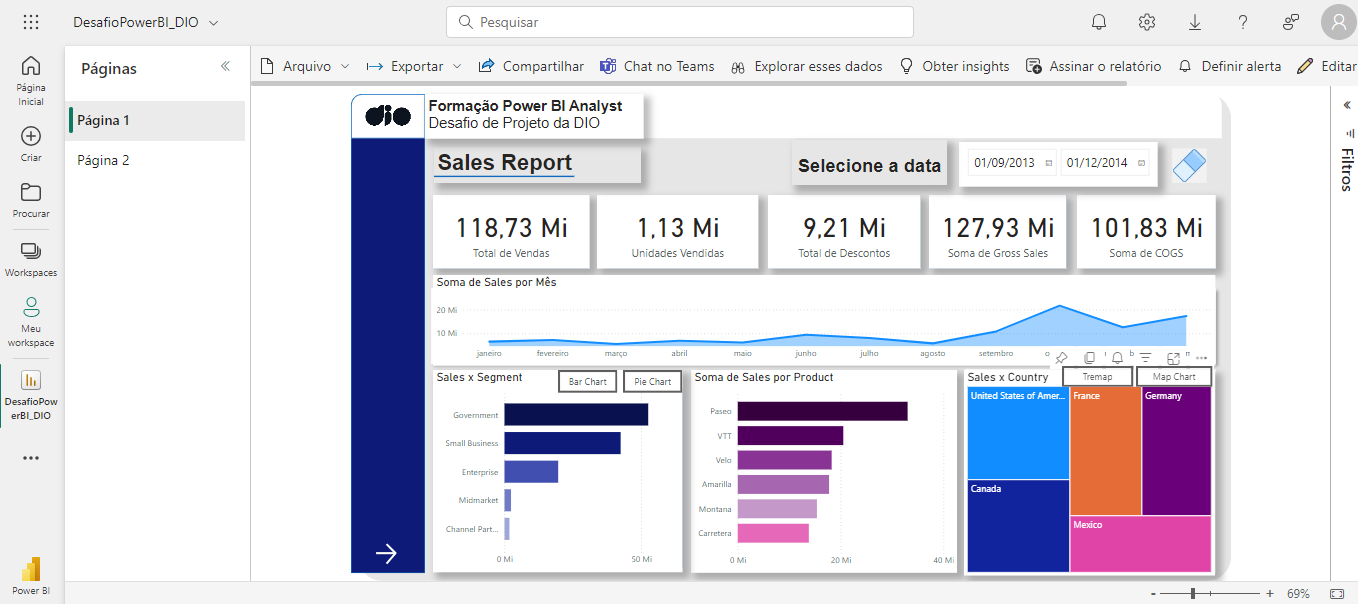

The page's visual inventory and layout, read from the dashboard file:
{"tool":"powerbi","page":{"name":"Página 1","canvas":[1280,720],"ordinal":0},"visuals":[{"type":"shape","box":[10.1,11.5,1270.1,708.5],"z":0},{"type":"slicer","fields":{"Values":["financials.Date"]},"box":[885.3,82,289.4,64.8],"z":0,"group":"g2"},{"type":"shape","box":[120.4,115.8,204.5,30.2],"z":0,"group":"g5"},{"type":"shape","box":[119.5,158.4,227.5,106.6],"z":0,"group":"g1"},{"type":"map","title":"Sales x Country","fields":{"Category":["financials.Country"],"Size":["Sum(financials. Sales)"]},"box":[892.7,411.8,365,298.4],"z":0,"group":"g3"},{"type":"donutChart","title":"Sales x Segmento - pie","fields":{"Y":["Sum(financials. Sales)"],"Category":["financials.Segment"]},"box":[119.6,413.6,362.3,294.9],"z":0,"group":"g4"},{"type":"shape","box":[0,11.8,107.5,697.1],"z":1000},{"type":"textbox","box":[641.9,79.1,226.1,66.2],"z":1000,"group":"g2"},{"type":"textbox","box":[120.4,88.4,301,53.3],"z":1000,"group":"g5"},{"type":"shape","box":[370.1,158.4,223.2,106.6],"z":1000,"group":"g1"},{"type":"treemap","title":"Sales x Country","fields":{"Group":["financials.Country"],"Values":["Sum(financials. Sales)"]},"box":[892,412.1,364.7,299.4],"z":1000,"group":"g3"},{"type":"clusteredBarChart","title":"Sales  x Segment","fields":{"Y":["Sum(financials. Sales)"],"Category":["financials.Segment"]},"box":[119.5,413.3,362.9,294],"z":1000,"group":"g4"},{"type":"actionButton","title":"Botão - Map","box":[1141.9,406.9,111.2,30.5],"z":1500,"group":"g3"},{"type":"actionButton","title":"Botão - Bar","box":[300.9,413.3,86.4,33.1],"z":1500,"group":"g4"},{"type":"shape","box":[0,11.5,108,64.8],"z":2000},{"type":"actionButton","box":[1193.8,86.4,51.8,60.5],"z":2000,"group":"g2"},{"type":"shape","box":[606.2,158.4,221.8,106.6],"z":2000,"group":"g1"},{"type":"actionButton","title":"Botão - Tremap","box":[1035.2,407,103.6,30.5],"z":2000,"group":"g3"},{"type":"actionButton","title":"Botão - Pie","box":[396,413.3,86.4,33.1],"z":2000,"group":"g4"},{"type":"image","box":[15.8,14.4,76.3,56.2],"z":3000},{"type":"image","title":"Borracha","box":[1183.7,86.4,73.4,60.5],"z":3000,"group":"g2"},{"type":"shape","box":[840.9,158.4,200.2,106.6],"z":3000,"group":"g1"},{"type":"shape","box":[108,11.5,1159.2,64.8],"z":4000},{"type":"shape","box":[1055.5,158.4,201.6,106.6],"z":4000,"group":"g1"},{"type":"textbox","box":[108,11.5,318.2,64.8],"z":5000},{"type":"card","fields":{"Values":["Sum(financials. Sales)"]},"box":[119.5,158.4,227.5,106.6],"z":5000,"group":"g1"},{"type":"group","id":"g1","title":"Cartões","box":[119.5,158.4,1137.6,106.6],"z":6000},{"type":"card","fields":{"Values":["Sum(financials.Units Sold)"]},"box":[358.5,158.4,234.7,106.6],"z":6000,"group":"g1"},{"type":"card","fields":{"Values":["Sum(financials.Discounts)"]},"box":[606.2,158.4,221.8,106.6],"z":7000,"group":"g1"},{"type":"shape","box":[108,285.1,1159.2,128.2],"z":7000},{"type":"card","fields":{"Values":["Sum(financials.Gross Sales)"]},"box":[840.9,158.4,200.2,106.6],"z":8000,"group":"g1"},{"type":"shape","box":[493.9,440.6,387.4,260.6],"z":8000},{"type":"card","fields":{"Values":["Sum(financials.COGS)"]},"box":[1055.5,158.4,201.6,106.6],"z":9000,"group":"g1"},{"type":"shape","box":[892.8,440.6,352.8,260.6],"z":9000},{"type":"areaChart","fields":{"Category":["financials.Date.Variation.Hierarquia de datas.Mês"],"Y":["Sum(financials. Sales)"]},"box":[119.5,275,1137.6,132.5],"z":10000},{"type":"shape","title":"SalesSegmentos - bar","box":[119.5,440.6,362.9,260.6],"z":11000},{"type":"clusteredBarChart","fields":{"Y":["Sum(financials. Sales)"],"Category":["financials.Product"]},"box":[493.9,413.3,387.4,295.2],"z":12000},{"type":"group","id":"g2","title":"Filtro por data","box":[641.9,79.1,615.2,67.8],"z":13000},{"type":"group","id":"g3","title":"Sales por pais","box":[892,406.9,365.8,304.6],"z":14000},{"type":"group","id":"g4","title":"Sales x Segmento","box":[119.5,413.3,362.9,295.2],"z":15000},{"type":"group","id":"g5","title":"Title report","box":[120.4,88.4,301.7,57.9],"z":16000},{"type":"actionButton","box":[30.2,661,44.6,40.3],"z":17000}]}

Visuals, with their boxes on the page's 1280x720 design canvas (x1, y1, x2, y2). These are canvas units, not pixel positions in the 1358x604 screenshot, which may show the page scaled, cropped or inside an application window:
shape: select_region(10, 12, 1280, 720)
slicer - financials.Date: select_region(885, 82, 1175, 147)
shape: select_region(120, 116, 325, 146)
shape: select_region(120, 158, 347, 265)
"Sales x Country" map: select_region(893, 412, 1258, 710)
"Sales x Segmento - pie" donutChart: select_region(120, 414, 482, 708)
shape: select_region(0, 12, 108, 709)
textbox: select_region(642, 79, 868, 145)
textbox: select_region(120, 88, 421, 142)
shape: select_region(370, 158, 593, 265)
"Sales x Country" treemap: select_region(892, 412, 1257, 712)
"Sales  x Segment" clusteredBarChart: select_region(120, 413, 482, 707)
"Botão - Map" actionButton: select_region(1142, 407, 1253, 437)
"Botão - Bar" actionButton: select_region(301, 413, 387, 446)
shape: select_region(0, 12, 108, 76)
actionButton: select_region(1194, 86, 1246, 147)
shape: select_region(606, 158, 828, 265)
"Botão - Tremap" actionButton: select_region(1035, 407, 1139, 438)
"Botão - Pie" actionButton: select_region(396, 413, 482, 446)
image: select_region(16, 14, 92, 71)
"Borracha" image: select_region(1184, 86, 1257, 147)
shape: select_region(841, 158, 1041, 265)
shape: select_region(108, 12, 1267, 76)
shape: select_region(1056, 158, 1257, 265)
textbox: select_region(108, 12, 426, 76)
card - Sum(financials. Sales): select_region(120, 158, 347, 265)
"Cartões" group: select_region(120, 158, 1257, 265)
card - Sum(financials.Units Sold): select_region(358, 158, 593, 265)
card - Sum(financials.Discounts): select_region(606, 158, 828, 265)
shape: select_region(108, 285, 1267, 413)
card - Sum(financials.Gross Sales): select_region(841, 158, 1041, 265)
shape: select_region(494, 441, 881, 701)
card - Sum(financials.COGS): select_region(1056, 158, 1257, 265)
shape: select_region(893, 441, 1246, 701)
areaChart - financials.Date.Variation.Hierarquia de datas.Mês x Sum(financials. Sales): select_region(120, 275, 1257, 408)
"SalesSegmentos - bar" shape: select_region(120, 441, 482, 701)
clusteredBarChart - Sum(financials. Sales) x financials.Product: select_region(494, 413, 881, 708)
"Filtro por data" group: select_region(642, 79, 1257, 147)
"Sales por pais" group: select_region(892, 407, 1258, 712)
"Sales x Segmento" group: select_region(120, 413, 482, 708)
"Title report" group: select_region(120, 88, 422, 146)
actionButton: select_region(30, 661, 75, 701)
